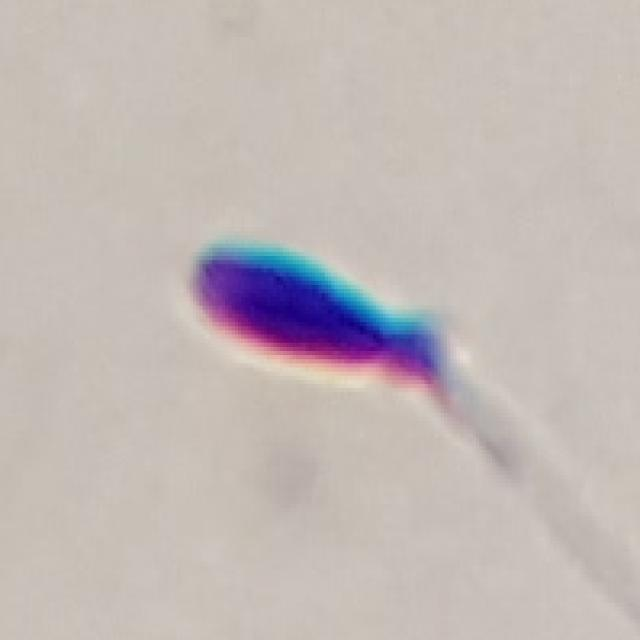abnormal sperm: (144, 124, 634, 568)
